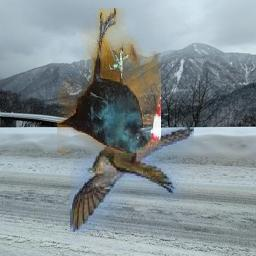Crow: (57, 9, 161, 154)
Cuckoo: (70, 128, 194, 233)
